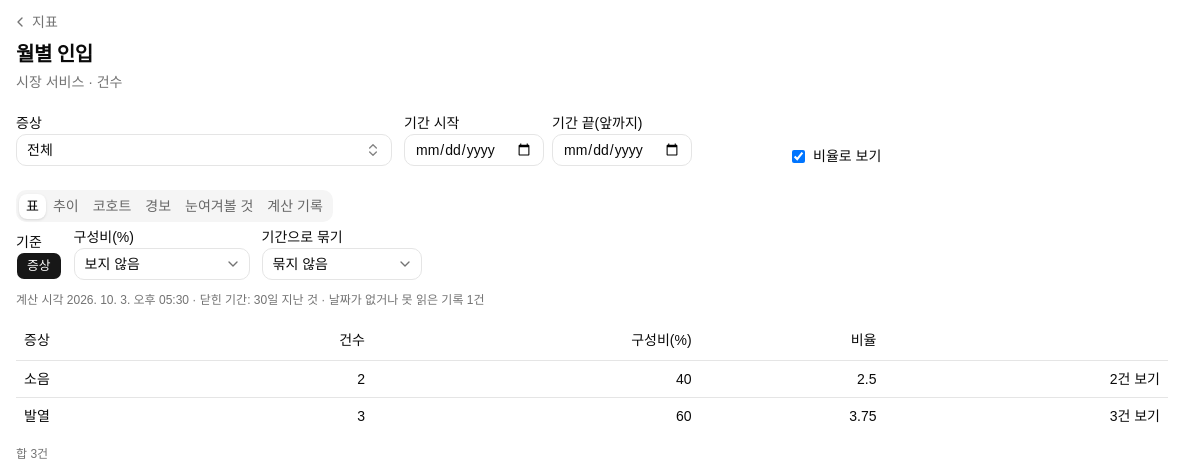
Scenario: 지표 상세 › 구성비 — 표는 고른 기준의 몫 열을 세우고, 그동안 비율은 함께 안 본다
Expected: the heading "월별 인입" is shown, [16,43,93,65]
What coordinates should you click on to do the following:
click the dropdown named "구성비(%)"
I would click on:
 (162, 264)
Its box is [74,248,250,280].
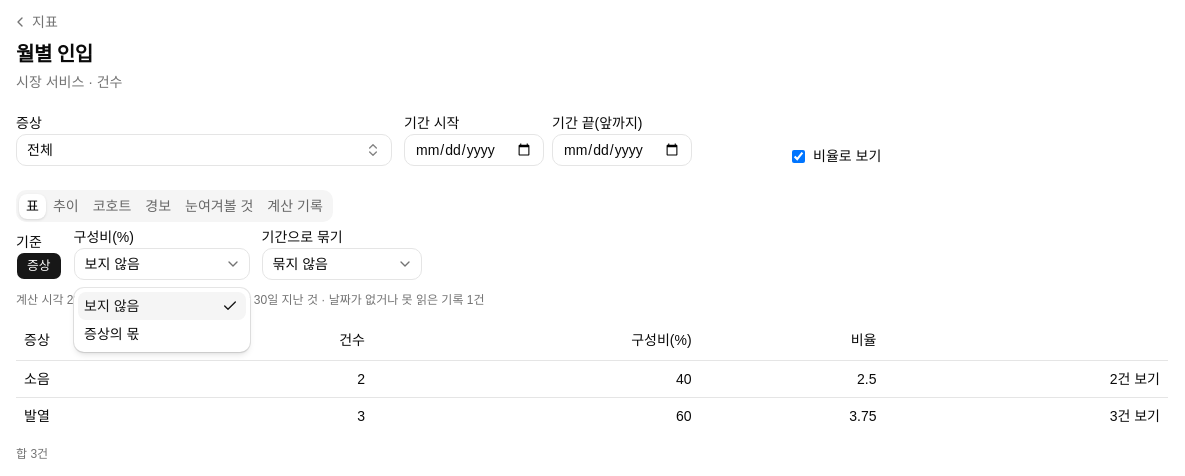
What coordinates should you click on to do the following:
click the option "증상의 몫"
I would click on:
 (112, 334)
Its box is [84,326,139,342].
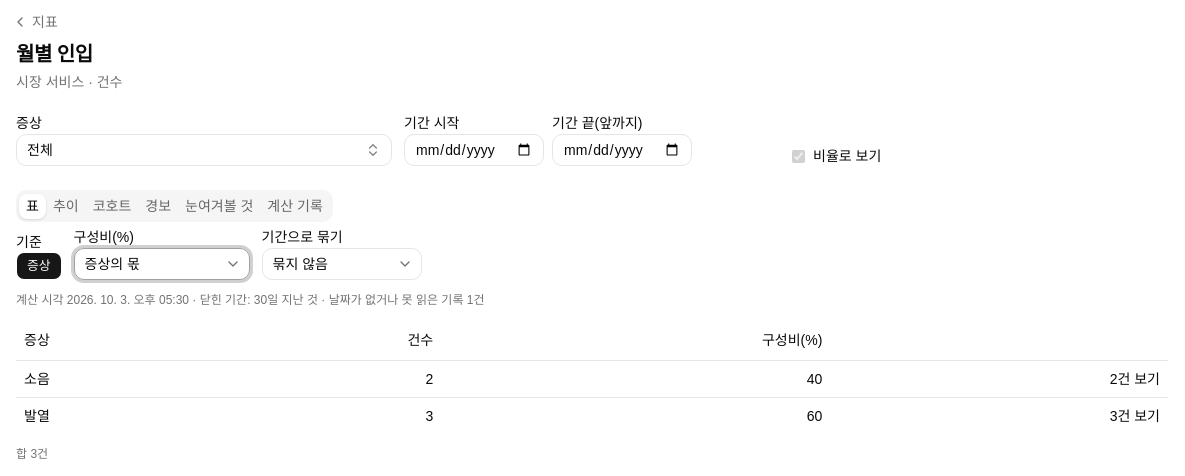
Expected: the column heading "구성비(%)" is shown, [441,320,830,360]
Now the text "3.75" is gone
Now the checkbox labelled "비율로 보기" is disabled, box [792,150,805,162]
